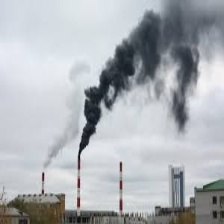smoke: (75, 1, 205, 157), (41, 135, 69, 169)
